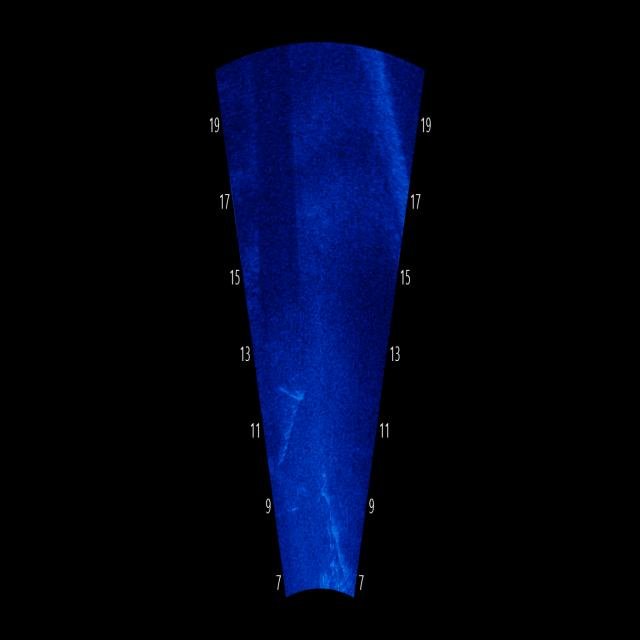triangle: (266, 371, 315, 467)
